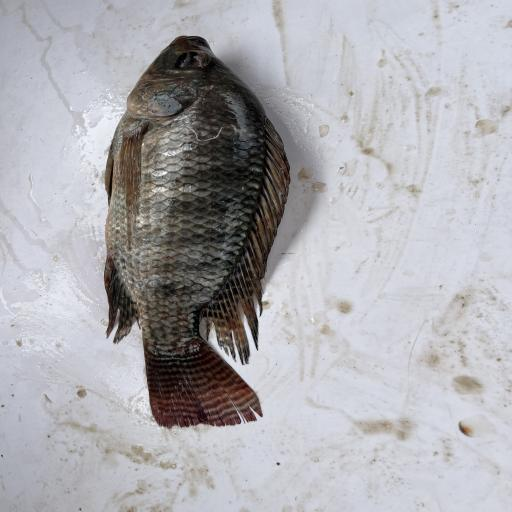Tilapia: (104, 36, 291, 428)
